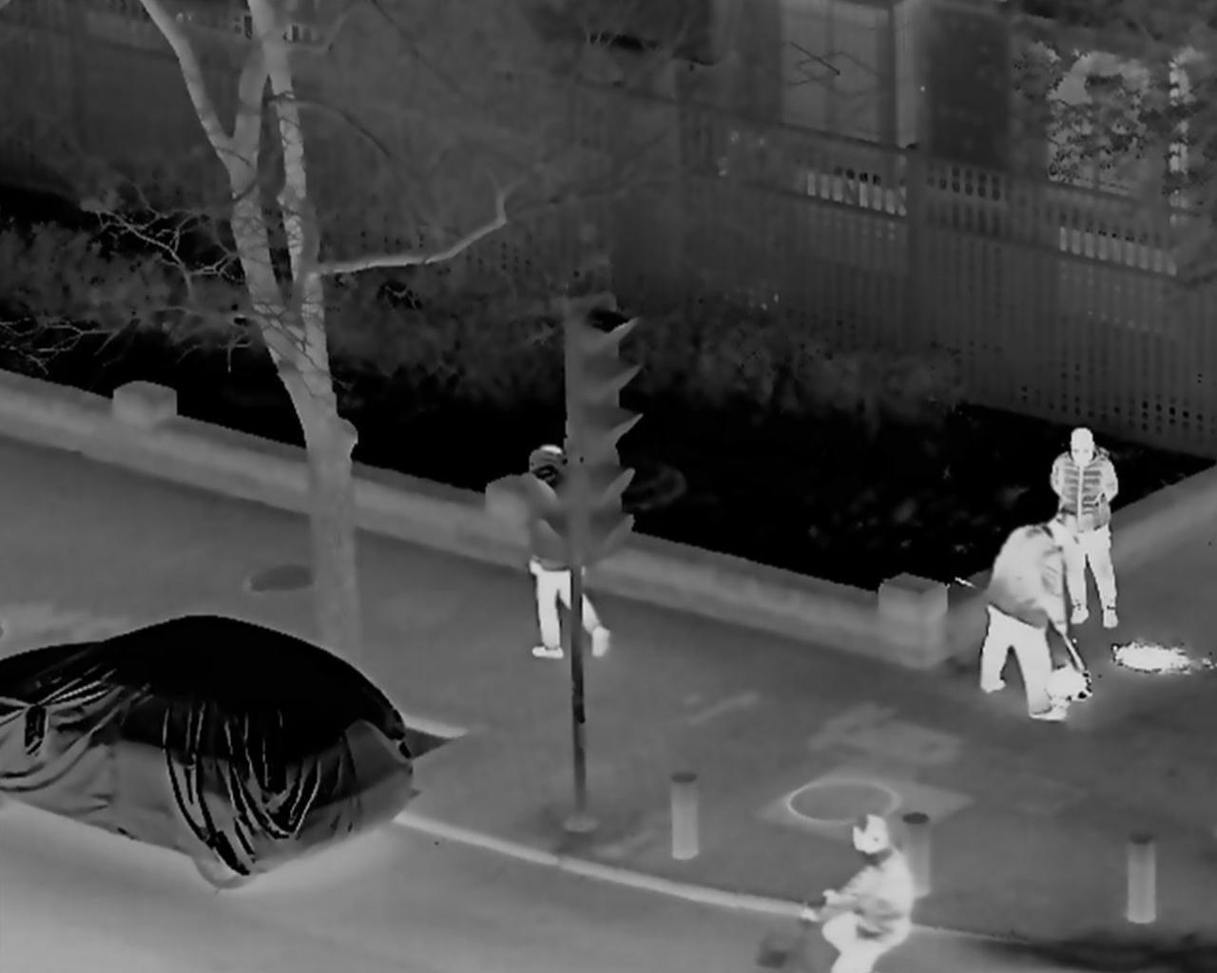person: (977, 506, 1079, 726), (527, 446, 613, 671), (797, 812, 912, 973), (1050, 425, 1125, 633)
